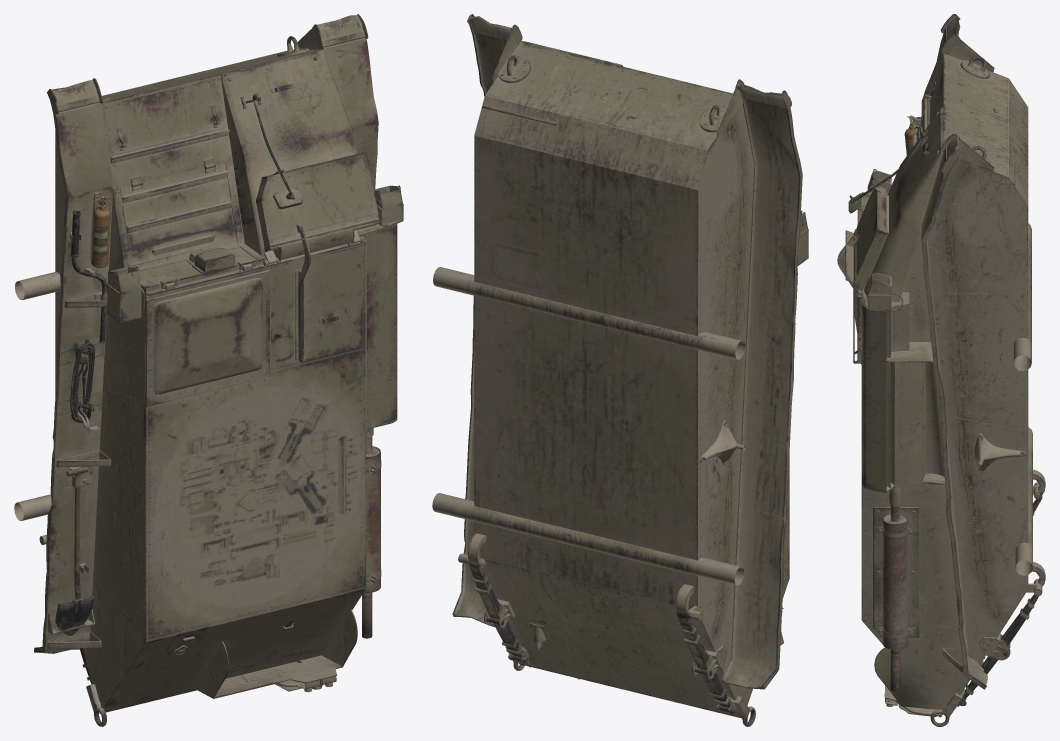
File: Hull.glb
3 views of the same model, side by side, from view 1: azimuth 30°, elevation 25°; view 2: azimuth 150°, elevation 25°; view 3: azimuth 270°, elevation 25° (orthographic). The views are drawn at different scales.
Visible parts, largest first — view 1: set_0_group_0; view 2: set_0_group_0; view 3: set_0_group_0.
Part boxes in pixels (x1,y1,x2,y2): set_0_group_0: (14, 14, 403, 726); set_0_group_0: (432, 14, 808, 726); set_0_group_0: (837, 14, 1045, 726).
Size of the model in its own units: 2.09 by 4.11 by 1.31.
1 material, 1 textured.
